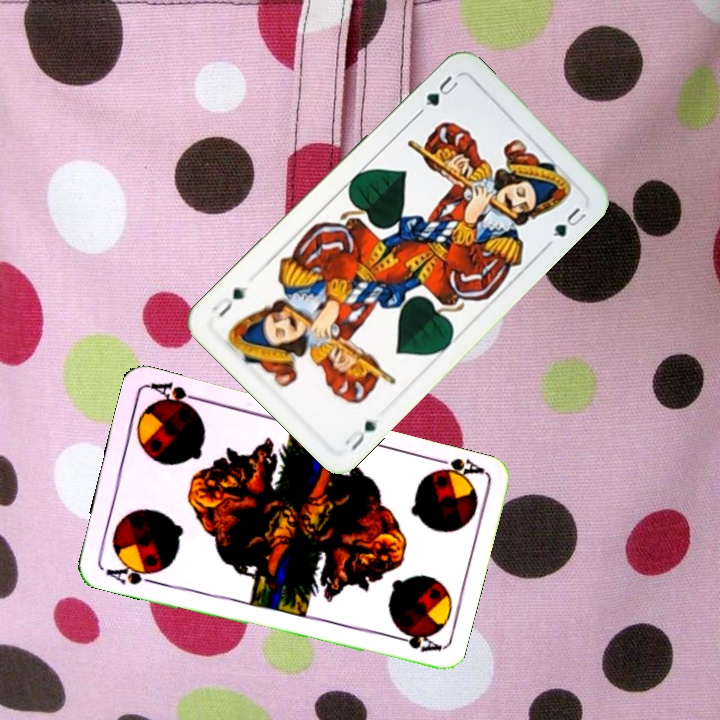GU: (414, 71, 461, 117), (340, 416, 380, 454)
SA: (426, 453, 486, 486), (99, 558, 159, 588)
